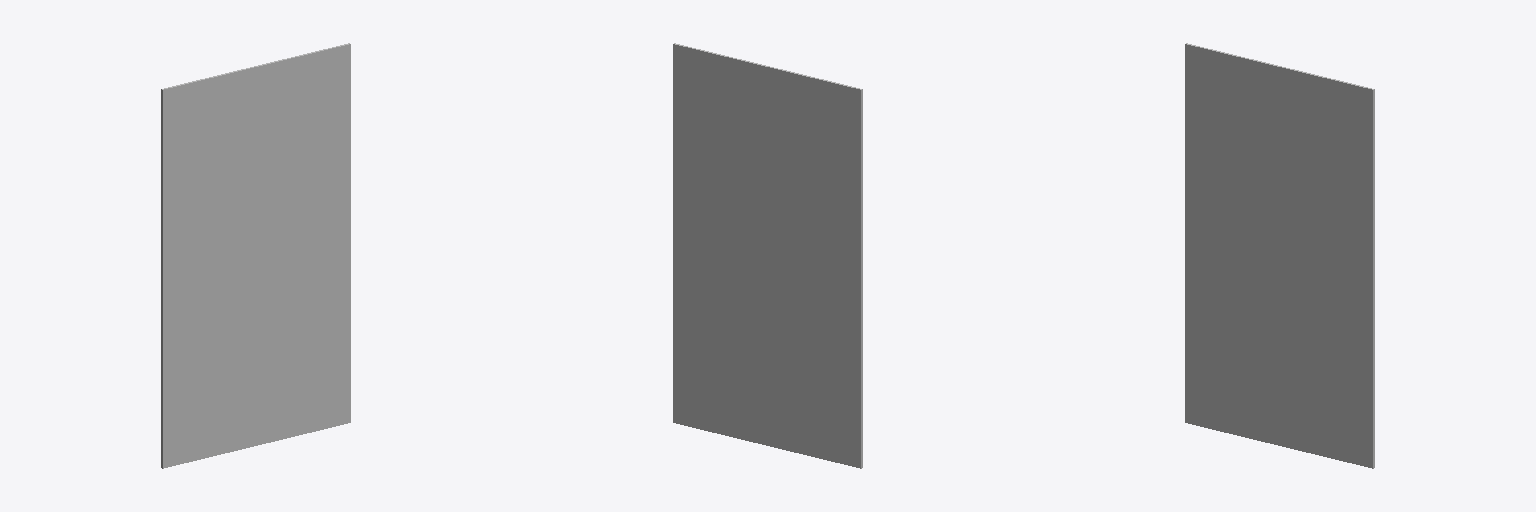
The model's file is original-15.obj.
3 views of the same model, side by side, from view 1: azimuth 30°, elevation 25°; view 2: azimuth 150°, elevation 25°; view 3: azimuth 330°, elevation 25° (orthographic).
Parts seen in each view (by area): view 1: BACK1/BACK/mesh10/mesh10-geometry#mesh10-geometry; view 2: BACK1/BACK/mesh10/mesh10-geometry#mesh10-geometry; view 3: BACK1/BACK/mesh10/mesh10-geometry#mesh10-geometry.
Part boxes in pixels (bbox=[...]): BACK1/BACK/mesh10/mesh10-geometry#mesh10-geometry: bbox=[161, 43, 350, 468]; BACK1/BACK/mesh10/mesh10-geometry#mesh10-geometry: bbox=[673, 43, 862, 468]; BACK1/BACK/mesh10/mesh10-geometry#mesh10-geometry: bbox=[1185, 43, 1374, 468].
Size of the model in its own units: 0.8009 by 1.54 by 0.0089.